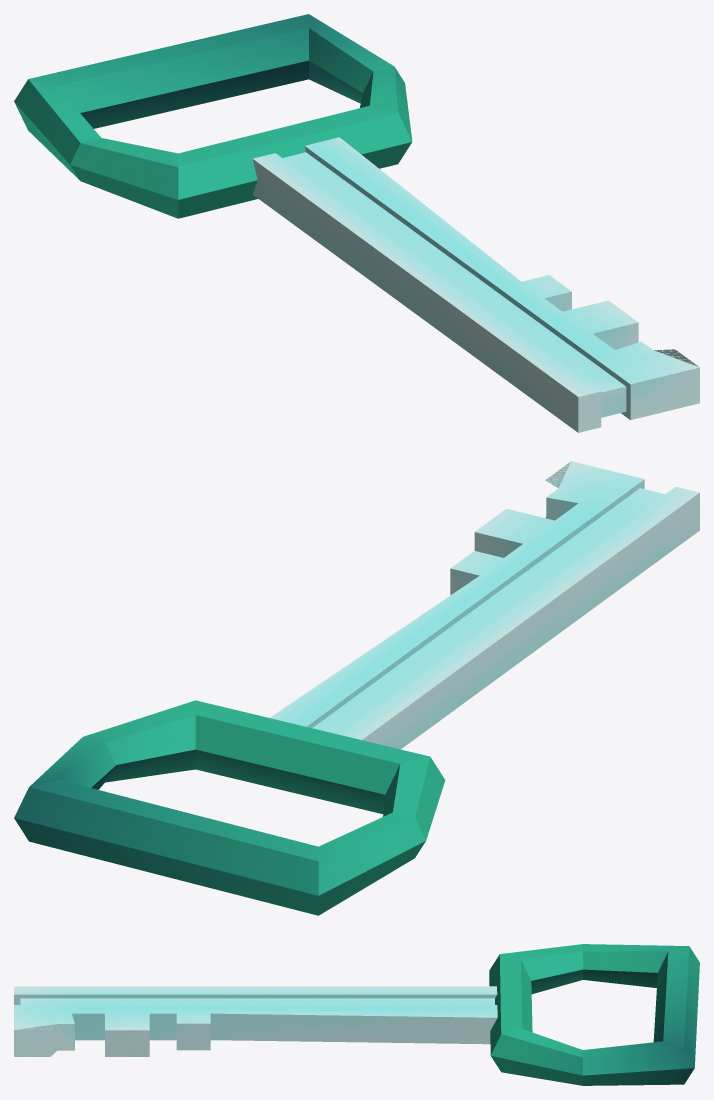
The model's file is Key_2.fbx.
3 views of the same model, one above another, from view 1: azimuth 30°, elevation 25°; view 2: azimuth 150°, elevation 25°; view 3: azimuth 270°, elevation 25° (orthographic). The views are drawn at different scales.
Visible parts, largest first — view 1: Key_2; view 2: Key_2; view 3: Key_2.
Part boxes in pixels (left/top/right/bottom): Key_2: left=14, top=14, right=699, bottom=432; Key_2: left=14, top=461, right=699, bottom=915; Key_2: left=14, top=944, right=699, bottom=1085.
Size of the model in its own units: 0.6912 by 0.1015 by 1.65.
1 material, 1 textured.
